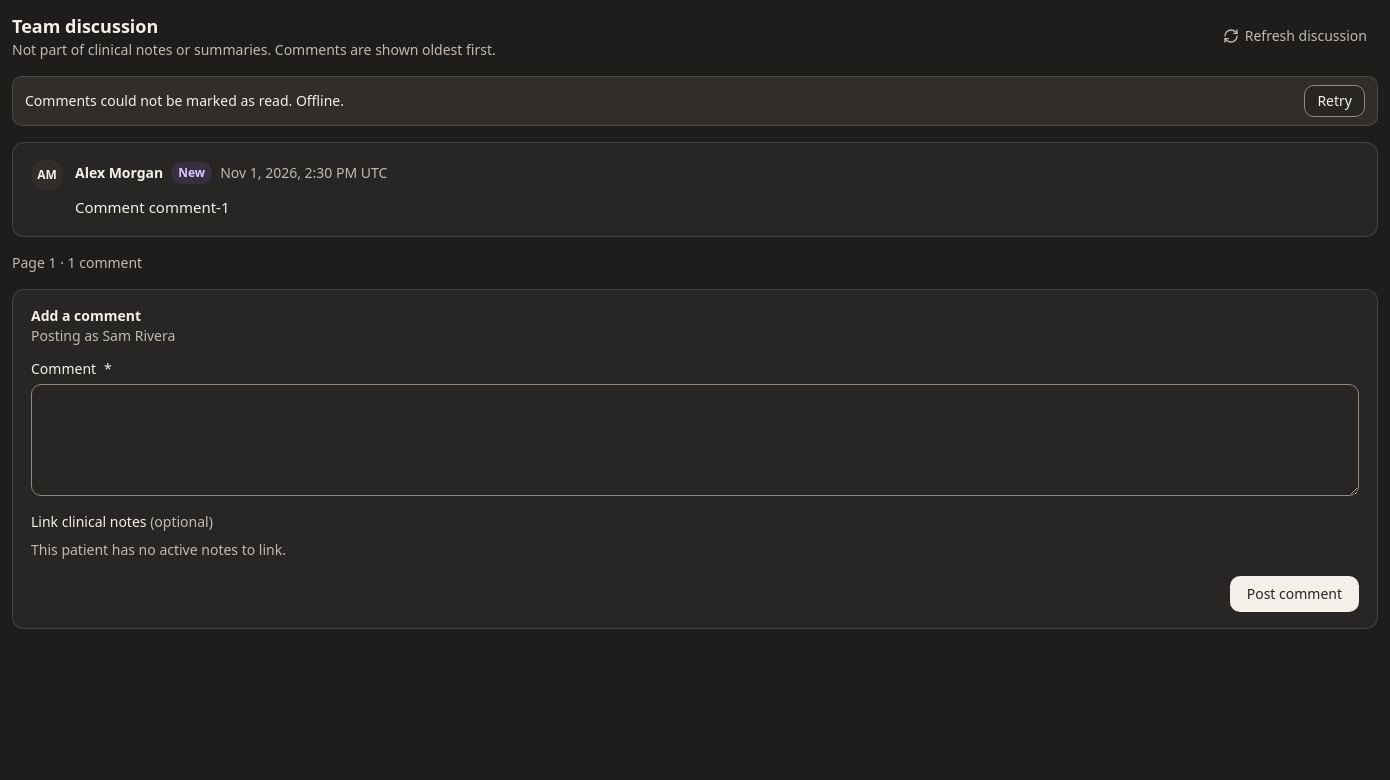
Test: displayed discussion acknowledgments › reports a failed automatic read politely, with Retry beside the live region
The image size is (1390, 780).
Click the button "Retry": (1335, 101) [1304,85,1365,117]
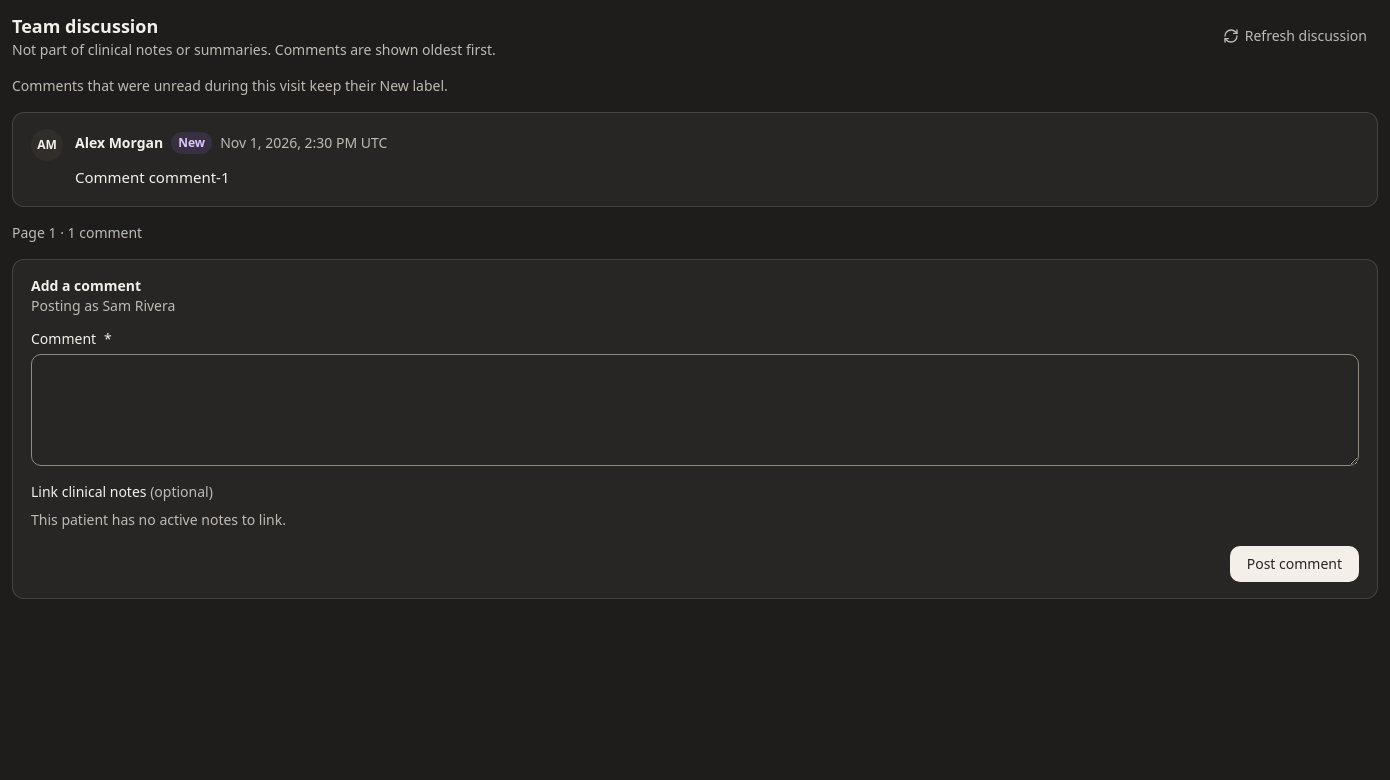
Expected: the button "Retry" is gone
